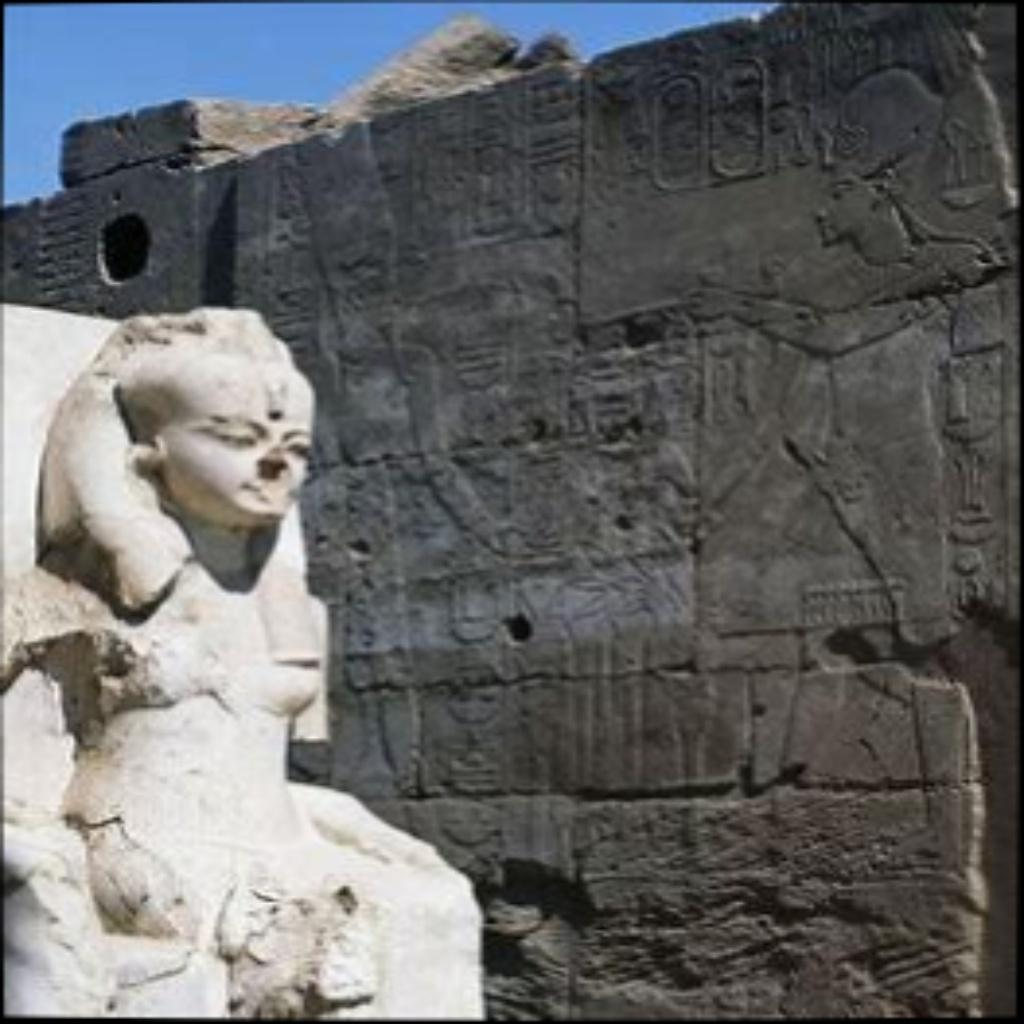Statue of Ankhesenamun: (0, 307, 487, 1018)
